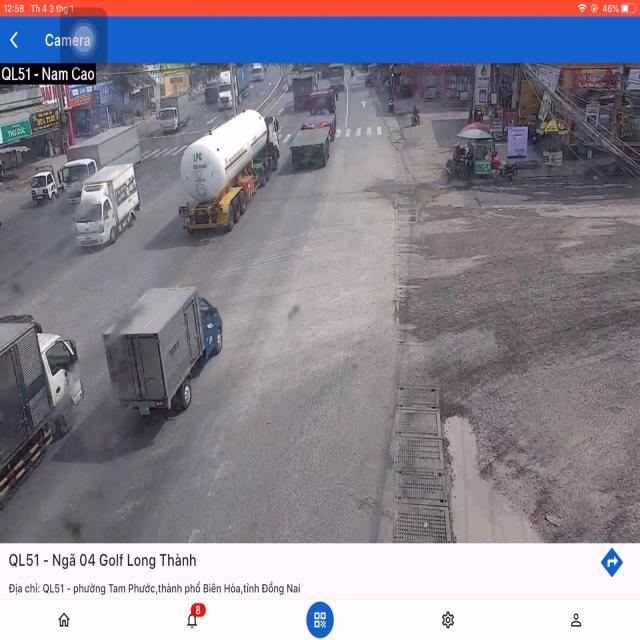truck: (101, 287, 221, 428), (0, 315, 78, 529), (177, 109, 277, 241), (74, 166, 138, 249), (290, 90, 338, 168), (62, 144, 104, 193), (157, 92, 192, 138), (27, 157, 61, 203)
